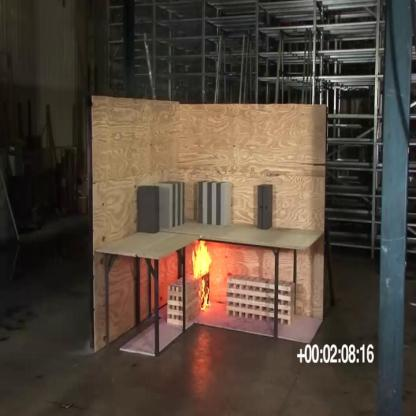fire: (191, 239, 213, 313)
